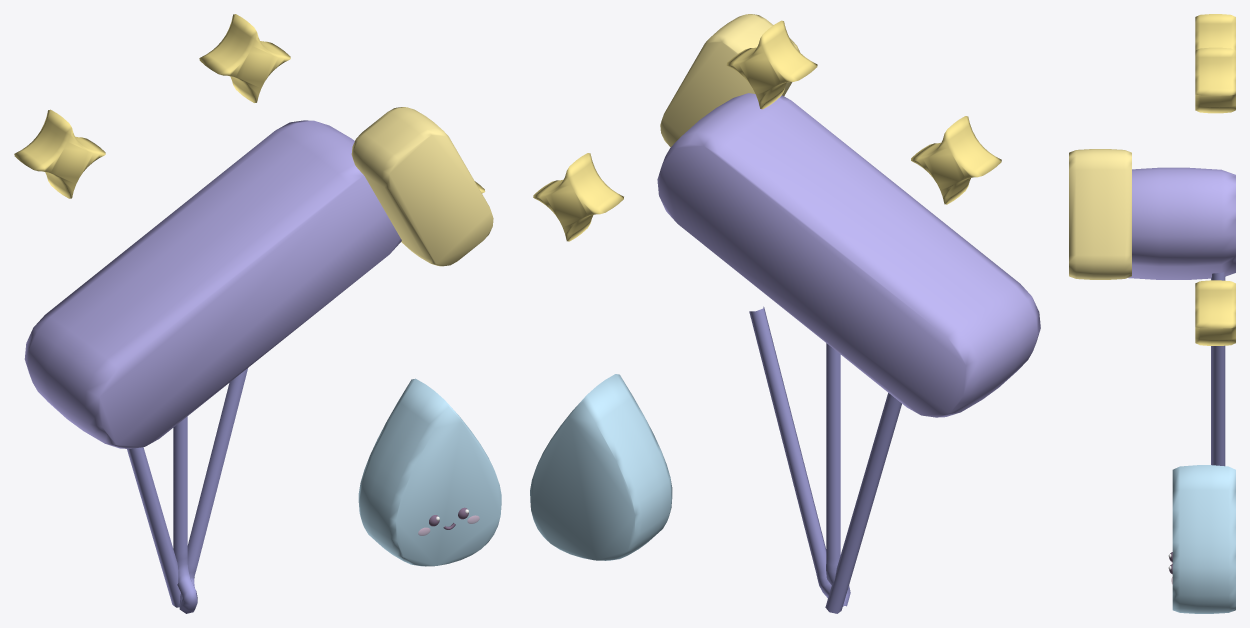
Rendered from decor_6_star.glb.
3 renders of one model, left to right at view 1: azimuth 30°, elevation 25°; view 2: azimuth 150°, elevation 25°; view 3: azimuth 270°, elevation 25°, orthographic. The views are drawn at different scales.
Parts seen in each view (by area): view 1: decor_6_star; view 2: decor_6_star; view 3: decor_6_star.
Boxes of the visible parts, x1,y1,x2,y2 form: decor_6_star: [14, 14, 501, 613]; decor_6_star: [530, 14, 1040, 613]; decor_6_star: [1069, 14, 1235, 613].
Bounding box in the file's own units: 9.46 × 11.34 × 3.53.
